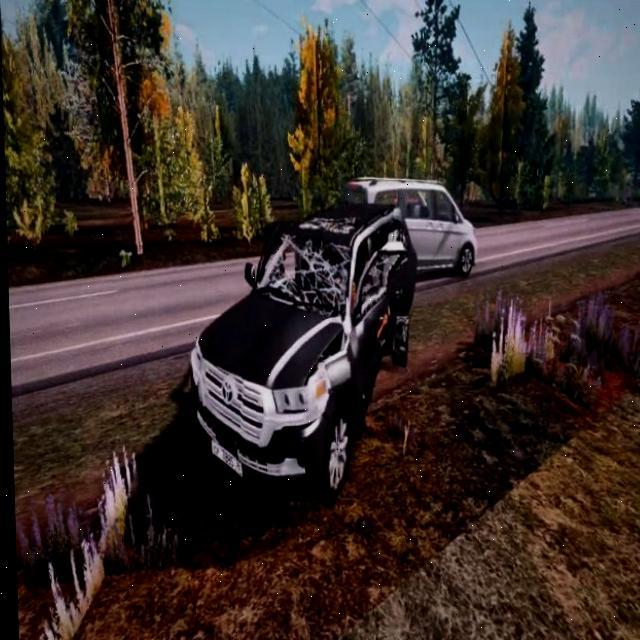multiple_accident: (127, 83, 517, 505)
